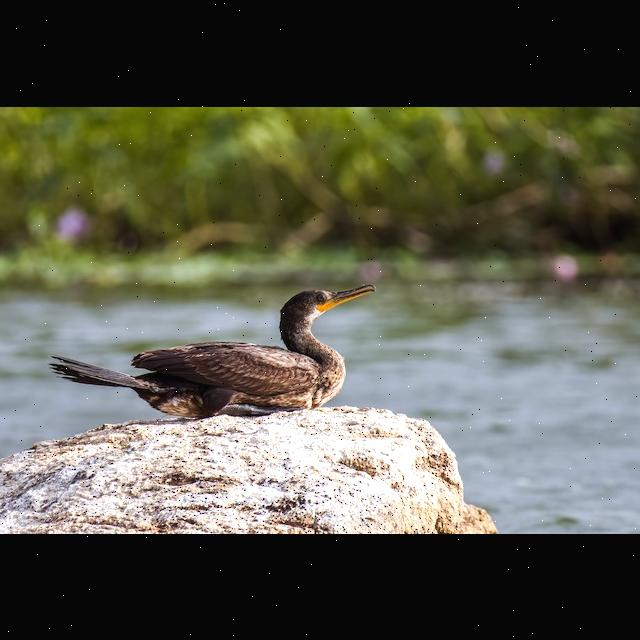cormorant: (55, 285, 377, 413)
